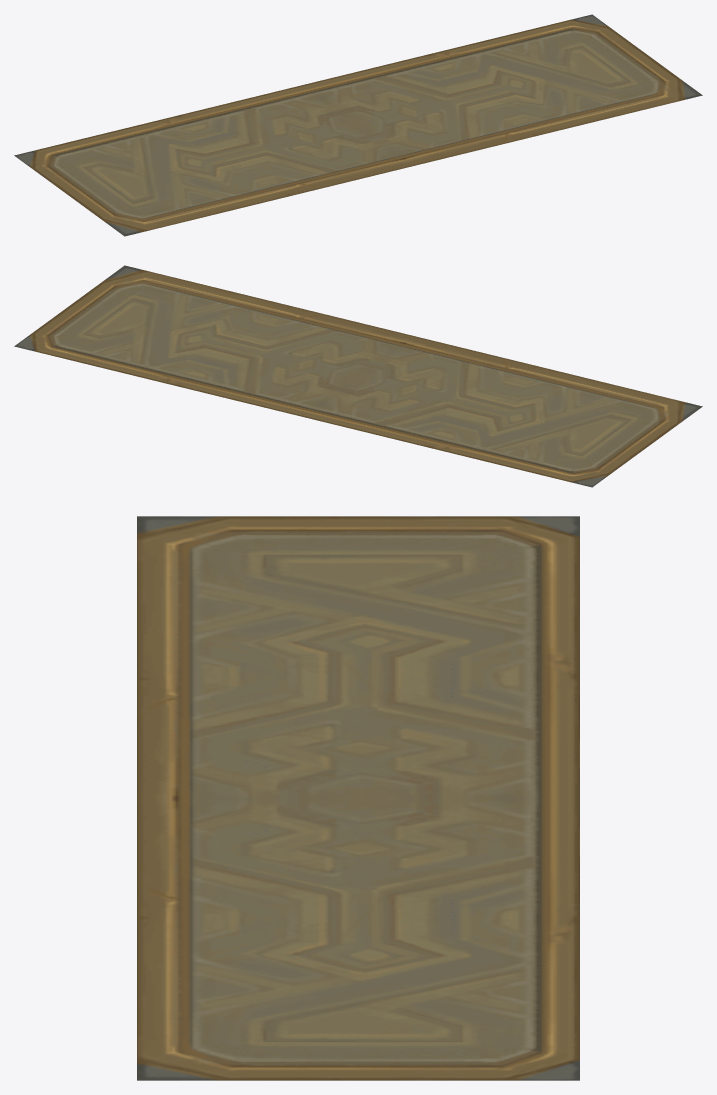
The model's file is cs_zhucheng_dihua_001.FBX.
The picture shows the model from 3 angles, top to bottom: view 1: azimuth 30°, elevation 25°; view 2: azimuth 150°, elevation 25°; view 3: azimuth 270°, elevation 25°; orthographic projection. The views are drawn at different scales.
Parts seen in each view (by area): view 1: cs_zhucheng_dihua_001; view 2: cs_zhucheng_dihua_001; view 3: cs_zhucheng_dihua_001.
Part boxes in pixels (x1,y1,x2,y2): cs_zhucheng_dihua_001: (14, 14, 702, 236); cs_zhucheng_dihua_001: (14, 265, 702, 487); cs_zhucheng_dihua_001: (137, 516, 579, 1080).
Size of the model in its own units: 124 by 40.96 by 1.33e-05.
